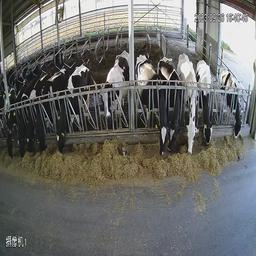cow: (136, 52, 168, 167), (59, 53, 93, 157), (100, 42, 131, 134), (157, 55, 183, 158), (216, 60, 247, 142), (176, 48, 199, 156), (33, 54, 53, 161), (19, 62, 39, 156), (195, 55, 215, 148), (7, 70, 23, 156)
